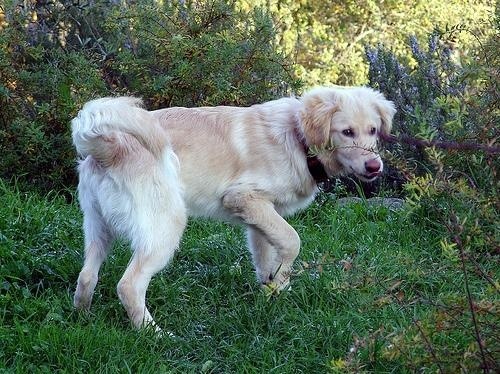dog: (68, 86, 400, 338)
